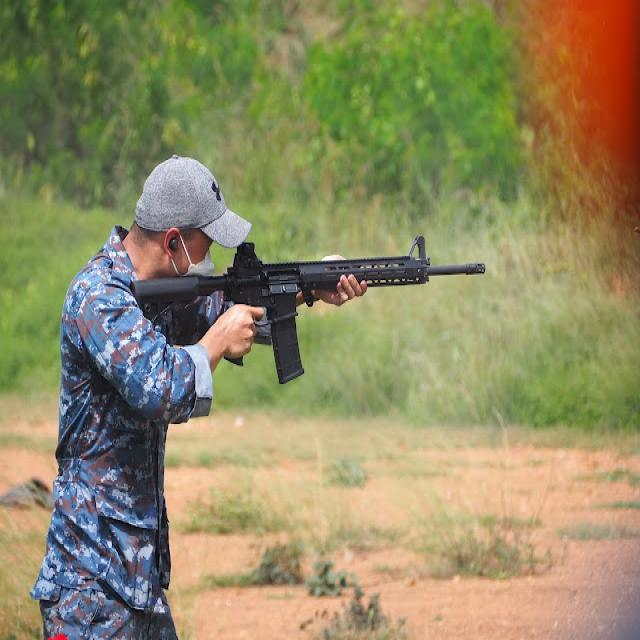m16: (116, 203, 515, 407)
